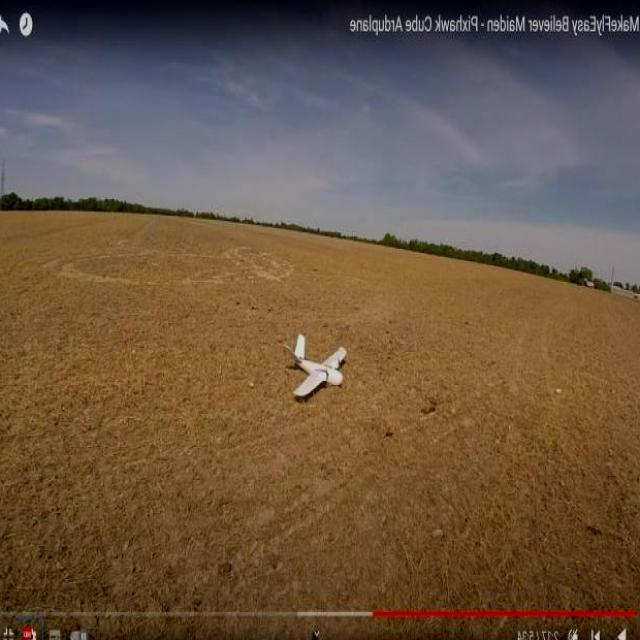plane: (281, 332, 348, 398)
